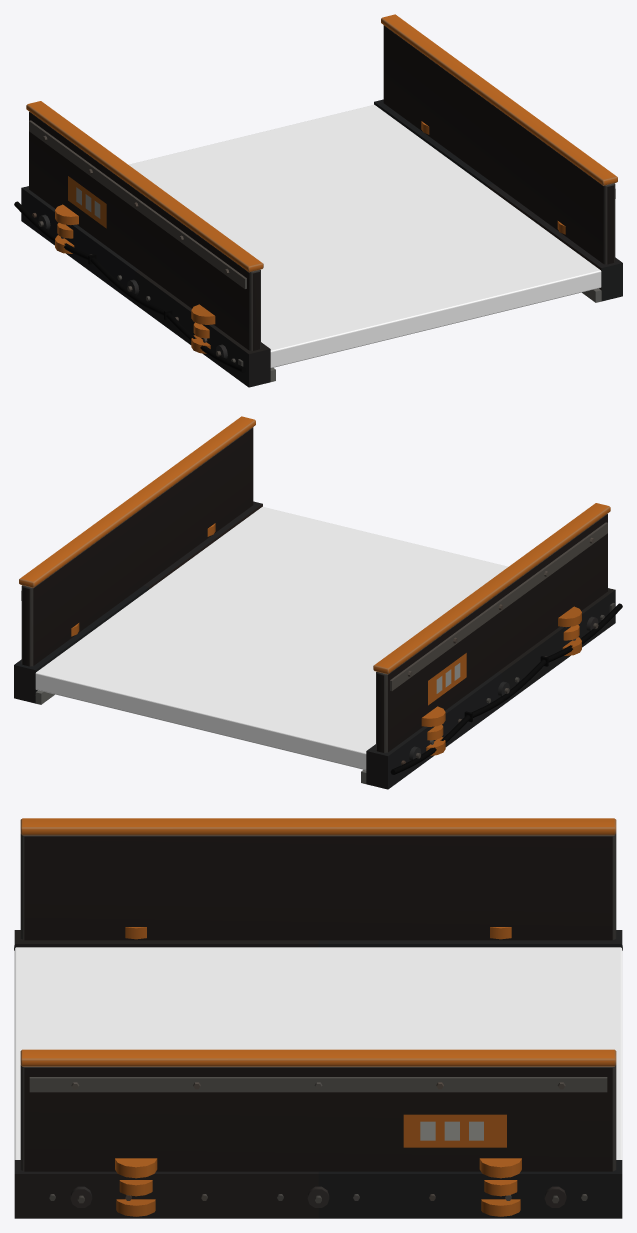
File: insulated_belt.glb
3 views of the same model, one above another, from view 1: azimuth 30°, elevation 25°; view 2: azimuth 150°, elevation 25°; view 3: azimuth 270°, elevation 25° (orthographic). The views are drawn at different scales.
Parts seen in each view (by area): view 1: Belt, Frame; view 2: Belt, Frame; view 3: Frame, Belt.
Part boxes in pixels (x1,y1,x2,y2): Belt: (128,104,601,368); Frame: (14,14,622,387); Belt: (35,506,508,770); Frame: (14,416,622,789); Frame: (14,818,622,1218); Belt: (14,947,622,1159).
Size of the model in its own units: 2 by 0.575 by 2.
